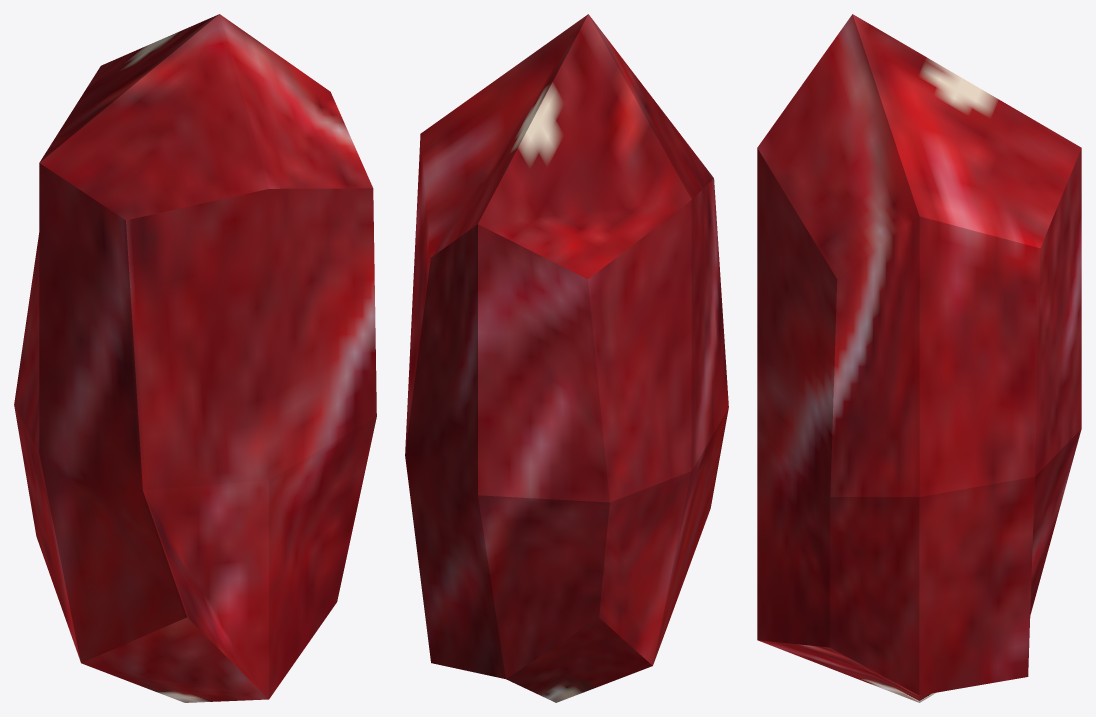
Rendered from gib2.fbx.
The picture shows the model from 3 angles, left to right: view 1: azimuth 30°, elevation 25°; view 2: azimuth 150°, elevation 25°; view 3: azimuth 270°, elevation 25°; orthographic projection. The views are drawn at different scales.
Parts seen in each view (by area): view 1: Cube; view 2: Cube; view 3: Cube.
Part boxes in pixels (<box>): Cube: <box>14,14,376,702</box>; Cube: <box>405,14,728,702</box>; Cube: <box>757,14,1081,702</box>.
Bounding box in the file's own units: 200 × 469 × 200.
